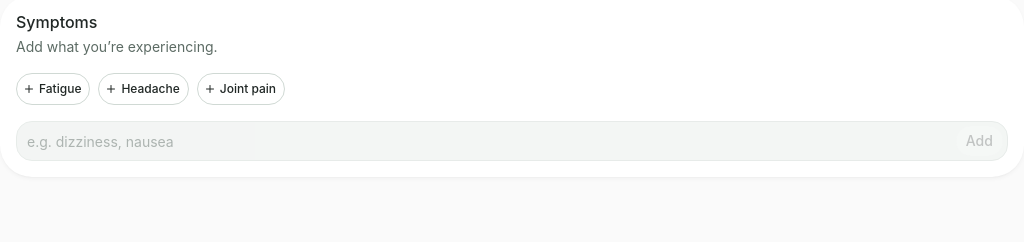
Scenario: SymptomsCard › starts empty and only adds examples when selected
This screenshot has width=1024, height=242.
Click the button with aria-label "Add fatigue": (53, 89) [16,73,90,105]
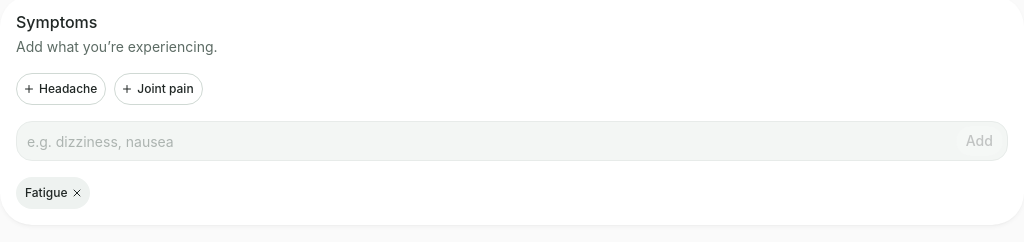
Expected: the button with aria-label "Remove Fatigue" is shown, [16,177,90,209]
